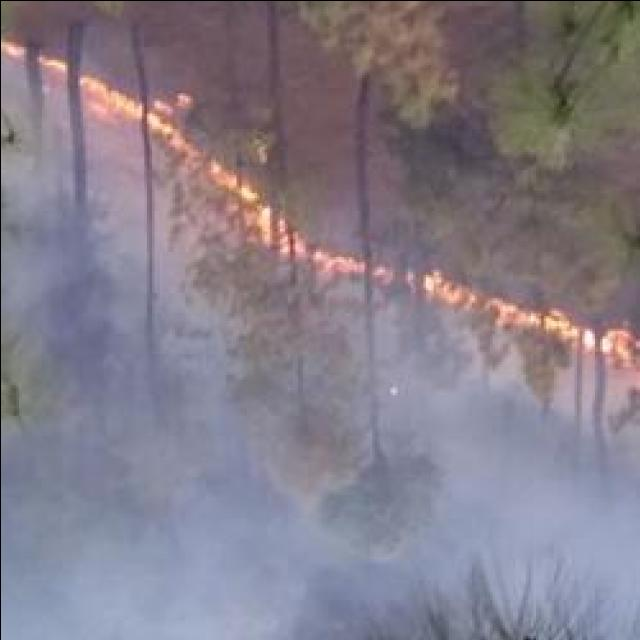fire: (416, 272, 530, 324), (72, 82, 184, 134), (532, 311, 636, 356), (205, 188, 291, 230)
smoke: (22, 115, 119, 298), (532, 428, 640, 558)
